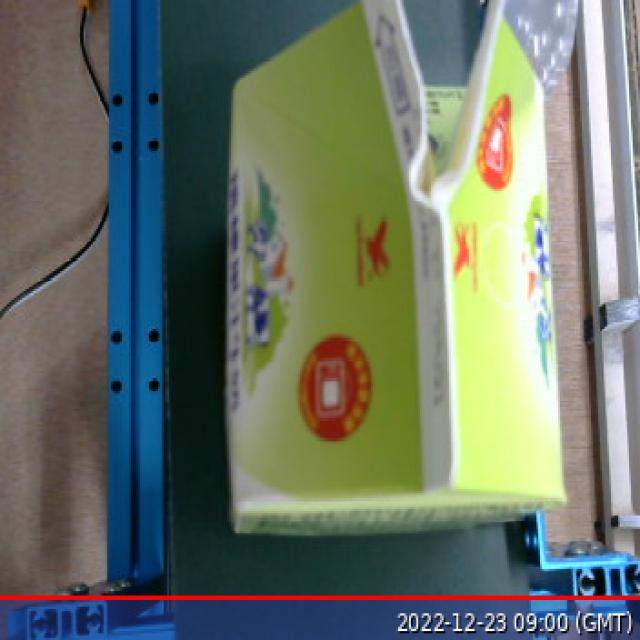non_white_jug: (196, 6, 588, 543)
